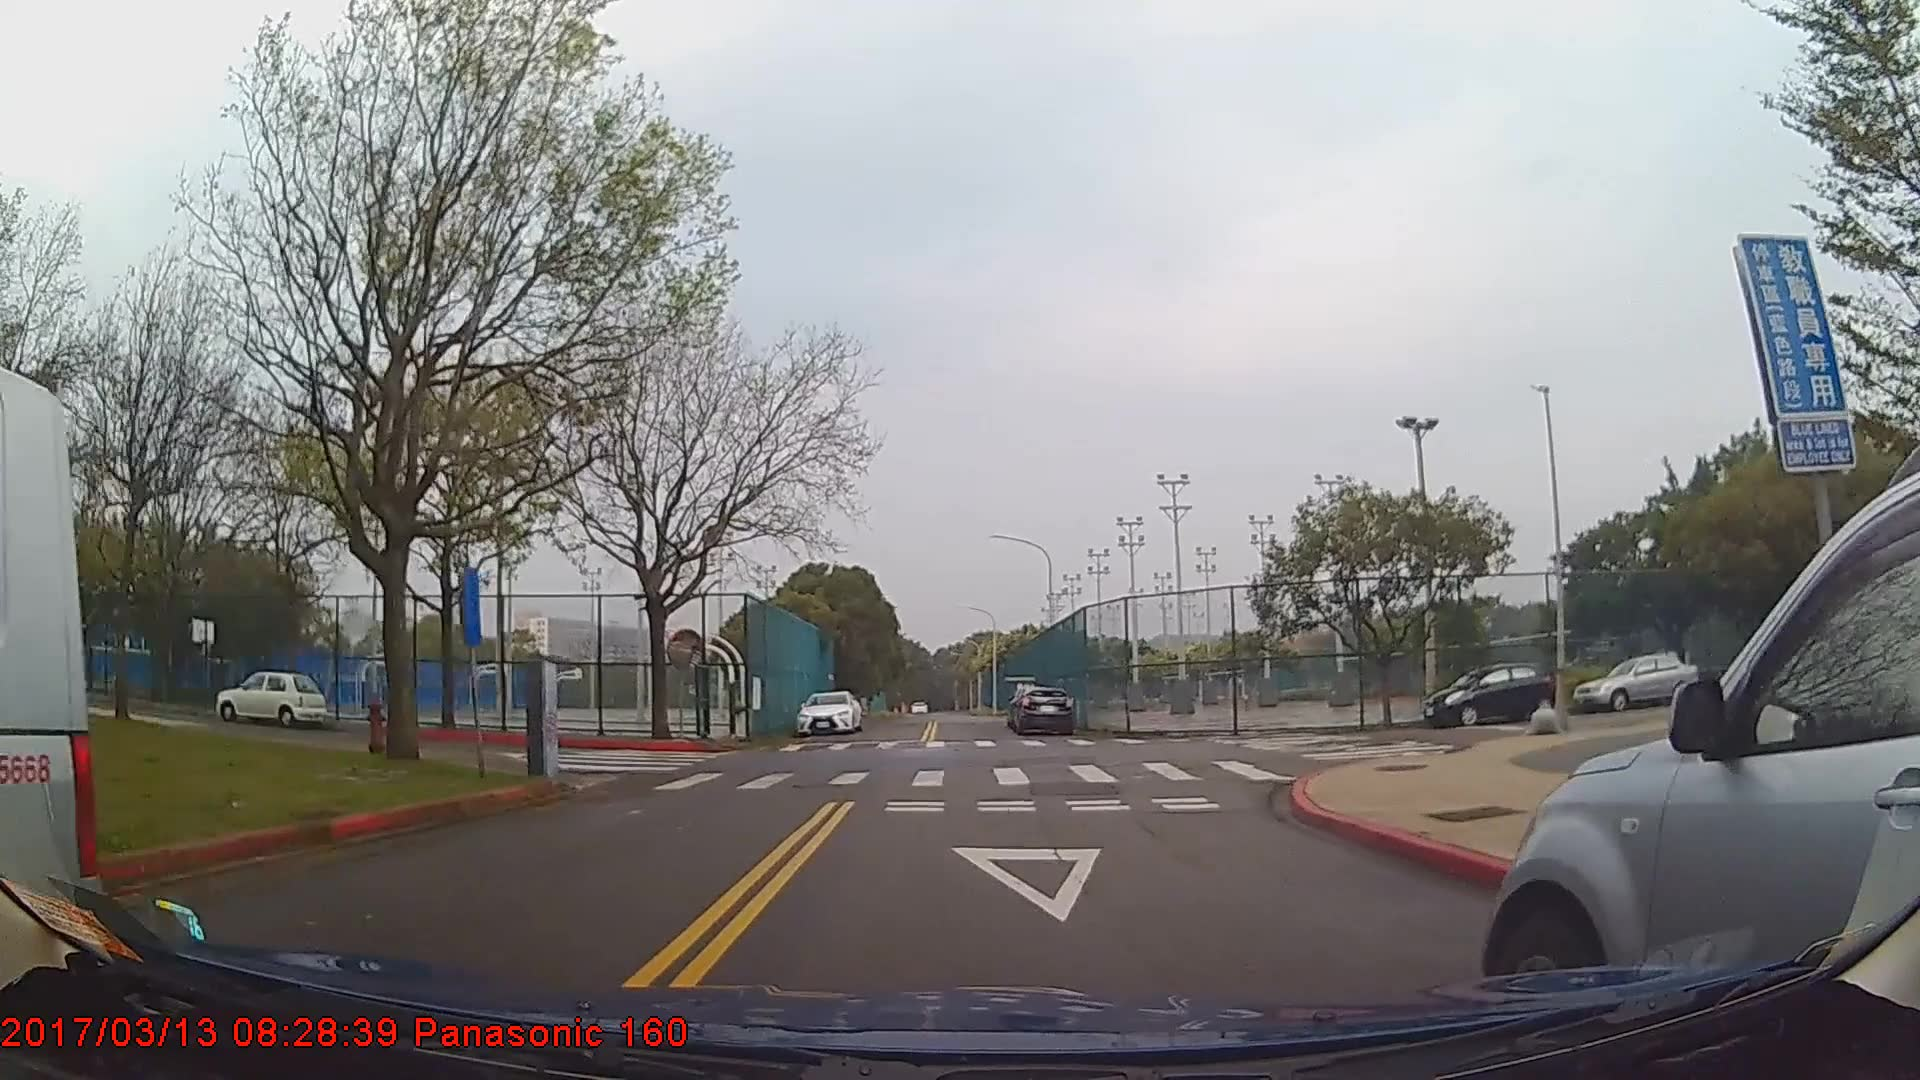vehicle: (1480, 471, 1920, 1050), (1422, 663, 1553, 727), (1572, 649, 1696, 711), (214, 669, 326, 728), (1011, 683, 1076, 735), (796, 687, 861, 735)
